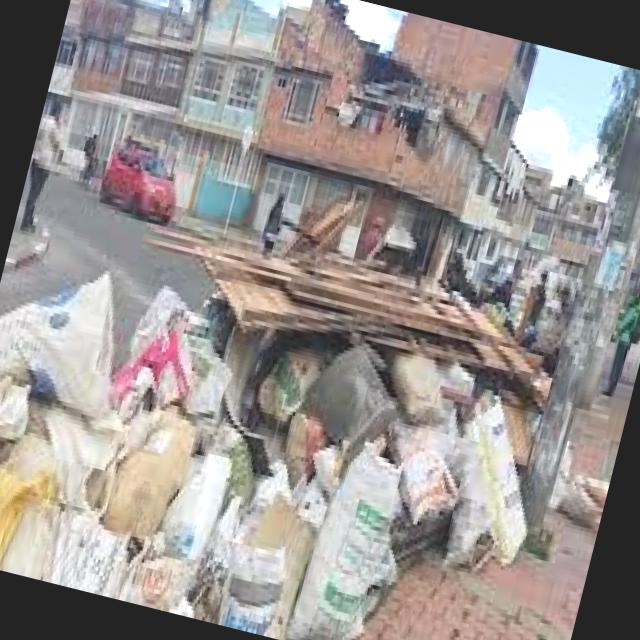garbage: (0, 176, 593, 640)
